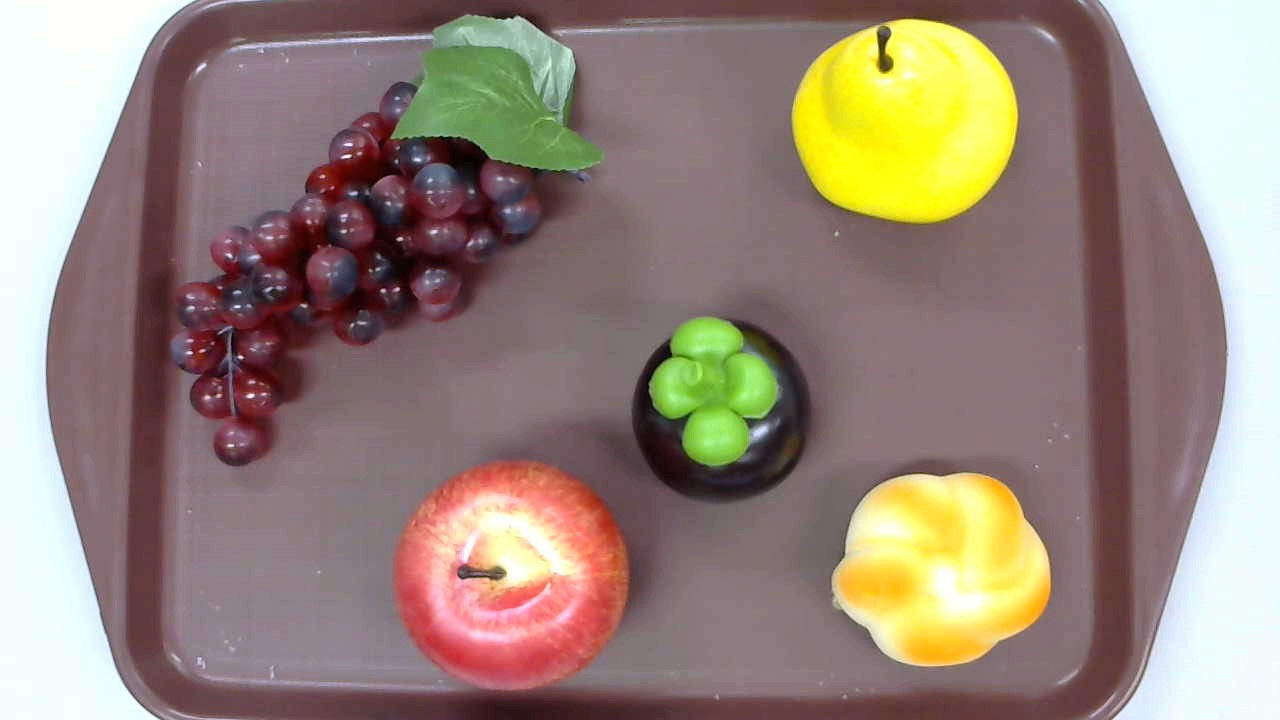grape: (169, 12, 603, 466)
mangosteen: (633, 317, 811, 503)
red apple: (391, 458, 630, 691)
twist bread: (831, 472, 1052, 667)
yellow pear: (790, 18, 1019, 222)
